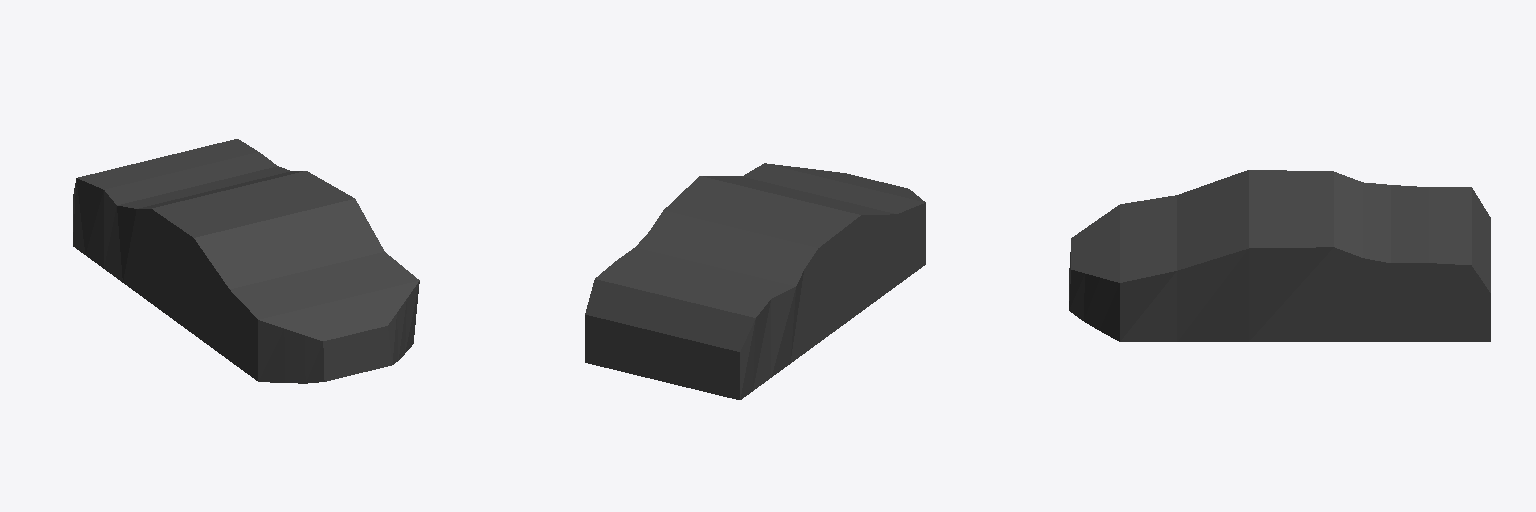
The model's file is california_hull.obj.
The picture shows the model from 3 angles: view 1: azimuth 30°, elevation 25°; view 2: azimuth 150°, elevation 25°; view 3: azimuth 270°, elevation 25°; orthographic projection.
Visible parts, largest first — view 1: Cube_Cube.000; view 2: Cube_Cube.000; view 3: Cube_Cube.000.
Part boxes in pixels (bbox=[...]): Cube_Cube.000: bbox=[73, 139, 419, 383]; Cube_Cube.000: bbox=[585, 163, 925, 399]; Cube_Cube.000: bbox=[1069, 170, 1490, 341].
Size of the model in its own units: 7.26 by 4.01 by 15.85.